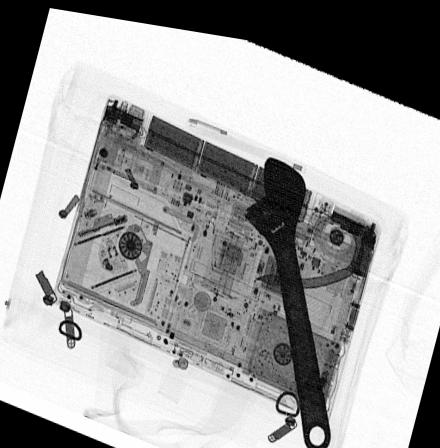Wrench: (242, 146, 331, 444)
